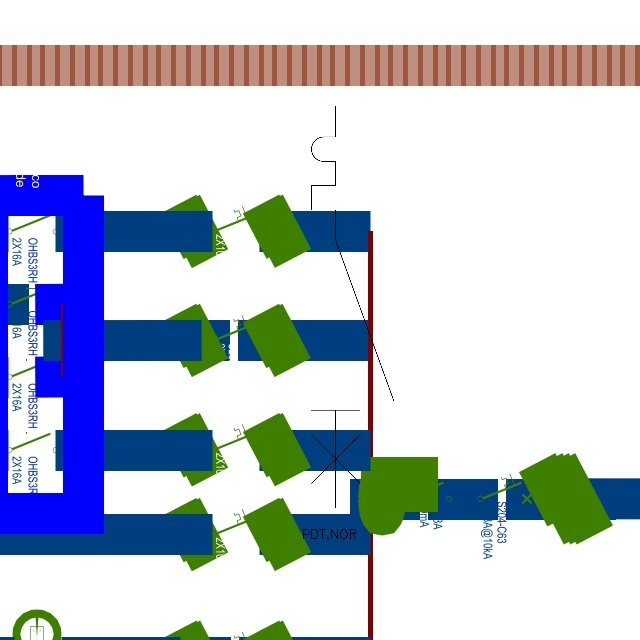interruptor_termomagnetico: (301, 96, 404, 518)
